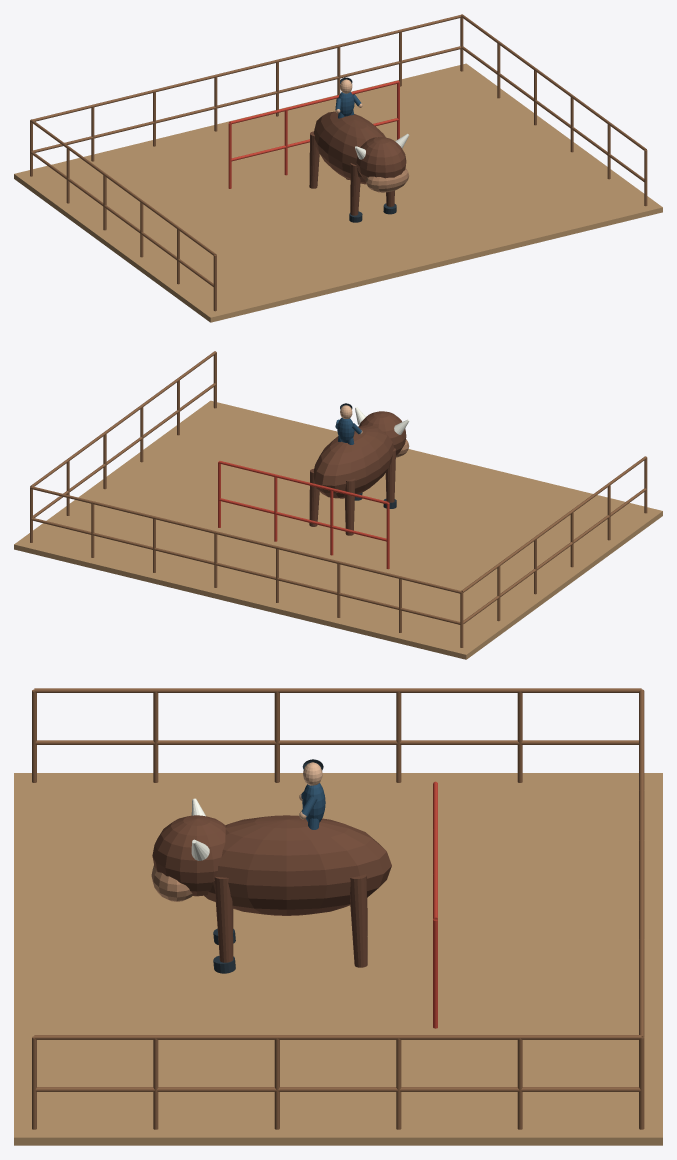
The model's file is scendance-plan-bull-riding.glb.
3 views of the same model, one above another, from view 1: azimuth 30°, elevation 25°; view 2: azimuth 150°, elevation 25°; view 3: azimuth 270°, elevation 25° (orthographic). The views are drawn at different scales.
Size of the model in its own units: 9.5 by 2.46 by 7.15.
